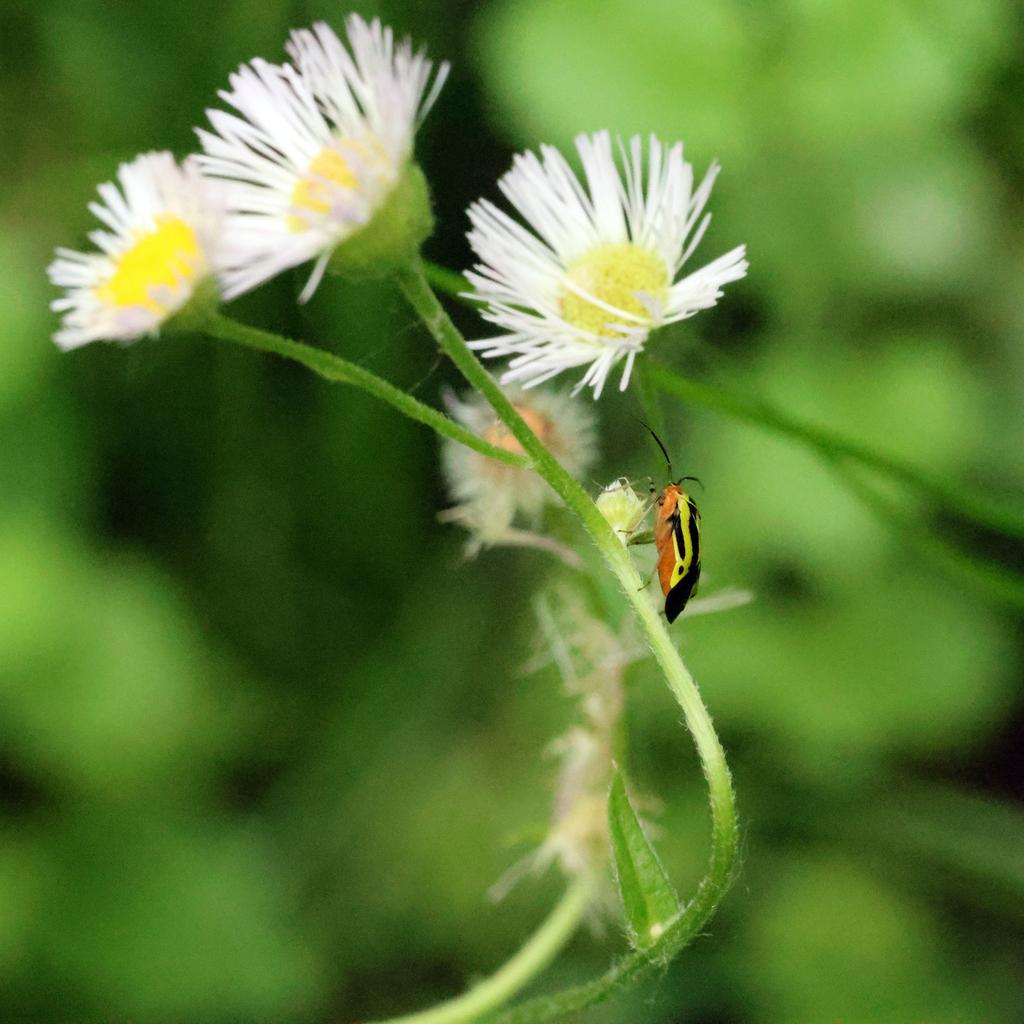plant_bugs: (564, 400, 789, 671)
